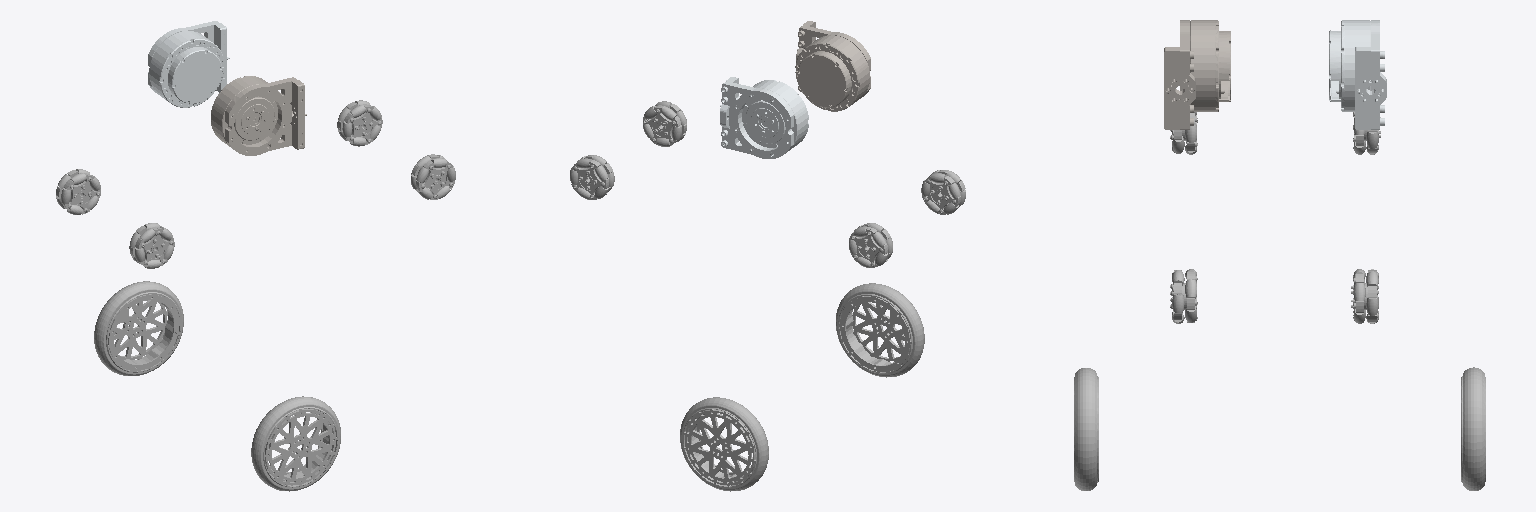
robot.urdf — practice3_description2:
<?xml version="1.0" encoding="utf-8"?>
<!-- This URDF was automatically created by SolidWorks to URDF Exporter! Originally created by [author] ([email redacted]) 
     Commit Version: 1.6.0-4-g7f85cfe  Build Version: 1.6.7995.38578
     For more information, please see http://wiki.ros.org/sw_urdf_exporter -->
<robot
  name="practice3_description2">
  <link
    name="base_link">
    <inertial>
      <origin
        xyz="-0.0190143926510643 -0.00209106834204678 0.0241216046560516"
        rpy="0 0 0" />
      <mass
        value="7.92513256532834" />
      <inertia
        ixx="0.0139055216111117"
        ixy="-0.000109653517718705"
        ixz="1.27828702079396E-05"
        iyy="0.0118816586586861"
        iyz="-7.29407228200342E-06"
        izz="0.0171631225933994" />
    </inertial>
    <visual>
      <origin
        xyz="0 0 0"
        rpy="0 0 0" />
      <geometry>
        <mesh
          filename="package://practice3_description2/meshes/base_link.STL" />
      </geometry>
      <material
        name="">
        <color
          rgba="0.298039215686275 0.298039215686275 0.298039215686275 0.2" />
      </material>
    </visual>
    <collision>
      <origin
        xyz="0 0 0"
        rpy="0 0 0" />
      <geometry>
        <mesh
          filename="package://practice3_description2/meshes/base_link.STL" />
      </geometry>
    </collision>
  </link>
  <link
    name="left_hip_link_1">
    <inertial>
      <origin
        xyz="0.0117376958449735 -0.00870423692569275 2.26941382359541E-05"
        rpy="0 0 0" />
      <mass
        value="0.400563744047032" />
      <inertia
        ixx="0.000296564794093282"
        ixy="-8.00993493392262E-08"
        ixz="-2.84645285411357E-07"
        iyy="0.000516698382063801"
        iyz="-2.2497477718339E-08"
        izz="0.000267243803257602" />
    </inertial>
    <visual>
      <origin
        xyz="0 0 0"
        rpy="0 0 0" />
      <geometry>
        <mesh
          filename="package://practice3_description2/meshes/left_hip_link_1.STL" />
      </geometry>
      <material
        name="">
        <color
          rgba="0.898039215686275 0.917647058823529 0.929411764705882 0.2" />
      </material>
    </visual>
    <collision>
      <origin
        xyz="0 0 0"
        rpy="0 0 0" />
      <geometry>
        <mesh
          filename="package://practice3_description2/meshes/left_hip_link_1.STL" />
      </geometry>
    </collision>
  </link>
  <joint
    name="left_hip_joint_1"
    type="revolute">
    <origin
      xyz="-0.0644999999999995 0.100000000000002 0.0610000000000005"
      rpy="0 0 0" />
    <parent
      link="base_link" />
    <child
      link="left_hip_link_1" />
    <axis
      xyz="-1 0 0" />
    <limit
      lower="0"
      upper="0"
      effort="0"
      velocity="0" />
  </joint>
  <link
    name="left_hip_link_2">
    <inertial>
      <origin
        xyz="-0.00234340312165071 -0.0164403871090596 -0.0315246767728361"
        rpy="0 0 0" />
      <mass
        value="0.958438524633264" />
      <inertia
        ixx="0.00177180470536122"
        ixy="4.54831101220919E-07"
        ixz="-3.38215173711839E-06"
        iyy="0.00216397459244547"
        iyz="-3.10678190785687E-06"
        izz="0.000453278850053542" />
    </inertial>
    <visual>
      <origin
        xyz="0 0 0"
        rpy="0 0 0" />
      <geometry>
        <mesh
          filename="package://practice3_description2/meshes/left_hip_link_2.STL" />
      </geometry>
      <material
        name="">
        <color
          rgba="0.898039215686275 0.917647058823529 0.929411764705882 0.2" />
      </material>
    </visual>
    <collision>
      <origin
        xyz="0 0 0"
        rpy="0 0 0" />
      <geometry>
        <mesh
          filename="package://practice3_description2/meshes/left_hip_link_2.STL" />
      </geometry>
    </collision>
  </link>
  <joint
    name="left_hip_joint_2"
    type="revolute">
    <origin
      xyz="0 0.074999989032747 0"
      rpy="0 0 0" />
    <parent
      link="left_hip_link_1" />
    <child
      link="left_hip_link_2" />
    <axis
      xyz="0 1 0" />
    <limit
      lower="0"
      upper="0"
      effort="0"
      velocity="0" />
  </joint>
  <link
    name="left_knee_link">
    <inertial>
      <origin
        xyz="0.00100749878759322 0.00320594335839763 -0.122955227606256"
        rpy="0 0 0" />
      <mass
        value="0.343804834340664" />
      <inertia
        ixx="0.0009680733895411"
        ixy="8.59857145931582E-07"
        ixz="1.62319934624875E-05"
        iyy="0.00106913143213422"
        iyz="-2.52727040731467E-06"
        izz="0.000118328955466622" />
    </inertial>
    <visual>
      <origin
        xyz="0 0 0"
        rpy="0 0 0" />
      <geometry>
        <mesh
          filename="package://practice3_description2/meshes/left_knee_link.STL" />
      </geometry>
      <material
        name="">
        <color
          rgba="1 1 1 1" />
      </material>
    </visual>
    <collision>
      <origin
        xyz="0 0 0"
        rpy="0 0 0" />
      <geometry>
        <mesh
          filename="package://practice3_description2/meshes/left_knee_link.STL" />
      </geometry>
    </collision>
  </link>
  <joint
    name="left_knee_joint"
    type="revolute">
    <origin
      xyz="0 0.0119999999999887 -0.199999999999995"
      rpy="0 0 0" />
    <parent
      link="left_hip_link_2" />
    <child
      link="left_knee_link" />
    <axis
      xyz="0 -1 0" />
    <limit
      lower="0"
      upper="0"
      effort="0"
      velocity="0" />
  </joint>
  <link
    name="left_wheel_link">
    <inertial>
      <origin
        xyz="-7.07767178198537E-16 -0.0117920169831469 -3.88578058618805E-16"
        rpy="0 0 0" />
      <mass
        value="0.209584411967204" />
      <inertia
        ixx="0.00029786947300678"
        ixy="-1.10268043536288E-19"
        ixz="1.2705210623214E-21"
        iyy="0.000587841562871859"
        iyz="5.68473106691506E-19"
        izz="0.00029786947300678" />
    </inertial>
    <visual>
      <origin
        xyz="0 0 0"
        rpy="0 0 0" />
      <geometry>
        <mesh
          filename="package://practice3_description2/meshes/left_wheel_link.STL" />
      </geometry>
      <material
        name="">
        <color
          rgba="0.752941176470588 0.752941176470588 0.752941176470588 0.2" />
      </material>
    </visual>
    <collision>
      <origin
        xyz="0 0 0"
        rpy="0 0 0" />
      <geometry>
        <mesh
          filename="package://practice3_description2/meshes/left_wheel_link.STL" />
      </geometry>
    </collision>
  </link>
  <joint
    name="left_wheel_joint"
    type="revolute">
    <origin
      xyz="0 0.0334999999966896 -0.220000000000008"
      rpy="0 0 0" />
    <parent
      link="left_knee_link" />
    <child
      link="left_wheel_link" />
    <axis
      xyz="0 -1 0" />
    <limit
      lower="0"
      upper="0"
      effort="0"
      velocity="0" />
  </joint>
  <link
    name="right_hip_link_1">
    <inertial>
      <origin
        xyz="0.0117071177721701 0.0164021412660143 5.60256661864197E-05"
        rpy="0 0 0" />
      <mass
        value="0.400831423281393" />
      <inertia
        ixx="0.000296630955176583"
        ixy="7.82527228974855E-08"
        ixz="-2.70117601965929E-07"
        iyy="0.000516698271342002"
        iyz="1.80396125202565E-08"
        izz="0.000267280909062391" />
    </inertial>
    <visual>
      <origin
        xyz="0 0 0"
        rpy="0 0 0" />
      <geometry>
        <mesh
          filename="package://practice3_description2/meshes/right_hip_link_1.STL" />
      </geometry>
      <material
        name="">
        <color
          rgba="0.776470588235294 0.756862745098039 0.737254901960784 0.2" />
      </material>
    </visual>
    <collision>
      <origin
        xyz="0 0 0"
        rpy="0 0 0" />
      <geometry>
        <mesh
          filename="package://practice3_description2/meshes/right_hip_link_1.STL" />
      </geometry>
    </collision>
  </link>
  <joint
    name="right_hip_joint_1"
    type="revolute">
    <origin
      xyz="-0.0644999999999994 -0.099999999999998 0.0609999999997787"
      rpy="0 0 0" />
    <parent
      link="base_link" />
    <child
      link="right_hip_link_1" />
    <axis
      xyz="-1 0 0" />
    <limit
      lower="0"
      upper="0"
      effort="0"
      velocity="0" />
  </joint>
  <link
    name="right_hip_link_2">
    <inertial>
      <origin
        xyz="-0.00236637227336274 0.0164649838667017 -0.031489988048203"
        rpy="0 0 0" />
      <mass
        value="0.959167374243142" />
      <inertia
        ixx="0.00177190021168065"
        ixy="-4.59288978411488E-07"
        ixz="-3.39668830993251E-06"
        iyy="0.00216397675694541"
        iyz="3.10493523112989E-06"
        izz="0.000453345300994539" />
    </inertial>
    <visual>
      <origin
        xyz="0 0 0"
        rpy="0 0 0" />
      <geometry>
        <mesh
          filename="package://practice3_description2/meshes/right_hip_link_2.STL" />
      </geometry>
      <material
        name="">
        <color
          rgba="1 1 1 0.2" />
      </material>
    </visual>
    <collision>
      <origin
        xyz="0 0 0"
        rpy="0 0 0" />
      <geometry>
        <mesh
          filename="package://practice3_description2/meshes/right_hip_link_2.STL" />
      </geometry>
    </collision>
  </link>
  <joint
    name="right_hip_joint_2"
    type="revolute">
    <origin
      xyz="0 -0.0654999866485592 0"
      rpy="0 0 0" />
    <parent
      link="right_hip_link_1" />
    <child
      link="right_hip_link_2" />
    <axis
      xyz="0 1 0" />
    <limit
      lower="0"
      upper="0"
      effort="0"
      velocity="0" />
  </joint>
  <link
    name="right_knee_link">
    <inertial>
      <origin
        xyz="0.000852844559914787 -0.0032059954658481 -0.12291534139924"
        rpy="0 0 0" />
      <mass
        value="0.343804857289423" />
      <inertia
        ixx="0.000968088228819755"
        ixy="-6.93212784777182E-07"
        ixz="1.62579052061883E-05"
        iyy="0.00106913174986676"
        iyz="2.48328323811241E-06"
        izz="0.000118314433915555" />
    </inertial>
    <visual>
      <origin
        xyz="0 0 0"
        rpy="0 0 0" />
      <geometry>
        <mesh
          filename="package://practice3_description2/meshes/right_knee_link.STL" />
      </geometry>
      <material
        name="">
        <color
          rgba="1 1 1 0.2" />
      </material>
    </visual>
    <collision>
      <origin
        xyz="0 0 0"
        rpy="0 0 0" />
      <geometry>
        <mesh
          filename="package://practice3_description2/meshes/right_knee_link.STL" />
      </geometry>
    </collision>
  </link>
  <joint
    name="right_knee_joint"
    type="revolute">
    <origin
      xyz="0 -0.0119999999999739 -0.199999999570626"
      rpy="0 0 0" />
    <parent
      link="right_hip_link_2" />
    <child
      link="right_knee_link" />
    <axis
      xyz="0 1 0" />
    <limit
      lower="0"
      upper="0"
      effort="0"
      velocity="0" />
  </joint>
  <link
    name="right_wheel_link">
    <inertial>
      <origin
        xyz="-4.54633272695126E-09 0.0117920169831469 -1.31611332943038E-10"
        rpy="0 0 0" />
      <mass
        value="0.209584411967204" />
      <inertia
        ixx="0.00029786947300678"
        ixy="-6.91658661627059E-20"
        ixz="-6.53875455186767E-20"
        iyy="0.000587841562871858"
        iyz="1.3562476710542E-19"
        izz="0.00029786947300678" />
    </inertial>
    <visual>
      <origin
        xyz="0 0 0"
        rpy="0 0 0" />
      <geometry>
        <mesh
          filename="package://practice3_description2/meshes/right_wheel_link.STL" />
      </geometry>
      <material
        name="">
        <color
          rgba="0.752941176470588 0.752941176470588 0.752941176470588 0.2" />
      </material>
    </visual>
    <collision>
      <origin
        xyz="0 0 0"
        rpy="0 0 0" />
      <geometry>
        <mesh
          filename="package://practice3_description2/meshes/right_wheel_link.STL" />
      </geometry>
    </collision>
  </link>
  <joint
    name="right_wheel_joint"
    type="revolute">
    <origin
      xyz="0 -0.0334999999967161 -0.22000000006147"
      rpy="0 0 0" />
    <parent
      link="right_knee_link" />
    <child
      link="right_wheel_link" />
    <axis
      xyz="0 1 0" />
    <limit
      lower="0"
      upper="0"
      effort="0"
      velocity="0" />
  </joint>
  <link
    name="lf_guidewheel_link">
    <inertial>
      <origin
        xyz="-3.81799036830444E-11 -0.0202720140453712 -1.38603642452217E-10"
        rpy="0 0 0" />
      <mass
        value="0.0909509467491148" />
      <inertia
        ixx="8.39441481509991E-06"
        ixy="3.29272753185131E-15"
        ixz="3.36933497356766E-16"
        iyy="1.503586387806E-05"
        iyz="1.03458342751675E-14"
        izz="8.39441493636591E-06" />
    </inertial>
    <visual>
      <origin
        xyz="0 0 0"
        rpy="0 0 0" />
      <geometry>
        <mesh
          filename="package://practice3_description2/meshes/lf_guidewheel_link.STL" />
      </geometry>
      <material
        name="">
        <color
          rgba="0.752941176470588 0.752941176470588 0.752941176470588 0.2" />
      </material>
    </visual>
    <collision>
      <origin
        xyz="0 0 0"
        rpy="0 0 0" />
      <geometry>
        <mesh
          filename="package://practice3_description2/meshes/lf_guidewheel_link.STL" />
      </geometry>
    </collision>
  </link>
  <joint
    name="lf_guidewheel_joint"
    type="revolute">
    <origin
      xyz="0.2 0.114999999999995 -0.082"
      rpy="0 0 0" />
    <parent
      link="base_link" />
    <child
      link="lf_guidewheel_link" />
    <axis
      xyz="0 -1 0" />
    <limit
      lower="0"
      upper="0"
      effort="0"
      velocity="0" />
  </joint>
  <link
    name="lb_guidewheel_link">
    <inertial>
      <origin
        xyz="2.10307049552938E-11 -0.0197279859545276 -1.41607475745431E-10"
        rpy="0 0 0" />
      <mass
        value="0.0909509467491148" />
      <inertia
        ixx="8.39441480498492E-06"
        ixy="1.92286536822321E-15"
        ixz="-1.12608791379439E-14"
        iyy="1.5035863881634E-05"
        iyz="-1.06855481416087E-14"
        izz="8.39441495005498E-06" />
    </inertial>
    <visual>
      <origin
        xyz="0 0 0"
        rpy="0 0 0" />
      <geometry>
        <mesh
          filename="package://practice3_description2/meshes/lb_guidewheel_link.STL" />
      </geometry>
      <material
        name="">
        <color
          rgba="0.752941176470588 0.752941176470588 0.752941176470588 0.2" />
      </material>
    </visual>
    <collision>
      <origin
        xyz="0 0 0"
        rpy="0 0 0" />
      <geometry>
        <mesh
          filename="package://practice3_description2/meshes/lb_guidewheel_link.STL" />
      </geometry>
    </collision>
  </link>
  <joint
    name="lb_guidewheel_joint"
    type="revolute">
    <origin
      xyz="-0.22 0.114999999999995 -0.0819999999999999"
      rpy="0 0 0" />
    <parent
      link="base_link" />
    <child
      link="lb_guidewheel_link" />
    <axis
      xyz="0 1 0" />
    <limit
      lower="0"
      upper="0"
      effort="0"
      velocity="0" />
  </joint>
  <link
    name="rf_guidewheel_link">
    <inertial>
      <origin
        xyz="7.05567826386755E-11 0.0197279859545511 -1.28303548341258E-10"
        rpy="0 0 0" />
      <mass
        value="0.0909509467491148" />
      <inertia
        ixx="8.39441487768189E-06"
        ixy="-4.81052717715718E-15"
        ixz="-4.78214950020925E-14"
        iyy="1.5035863881813E-05"
        iyz="9.73330311208418E-15"
        izz="8.39441487753702E-06" />
    </inertial>
    <visual>
      <origin
        xyz="0 0 0"
        rpy="0 0 0" />
      <geometry>
        <mesh
          filename="package://practice3_description2/meshes/rf_guidewheel_link.STL" />
      </geometry>
      <material
        name="">
        <color
          rgba="0.752941176470588 0.752941176470588 0.752941176470588 0.2" />
      </material>
    </visual>
    <collision>
      <origin
        xyz="0 0 0"
        rpy="0 0 0" />
      <geometry>
        <mesh
          filename="package://practice3_description2/meshes/rf_guidewheel_link.STL" />
      </geometry>
    </collision>
  </link>
  <joint
    name="rf_guidewheel_joint"
    type="revolute">
    <origin
      xyz="0.2 -0.115000000000005 -0.082"
      rpy="0 0 0" />
    <parent
      link="base_link" />
    <child
      link="rf_guidewheel_link" />
    <axis
      xyz="0 -1 0" />
    <limit
      lower="0"
      upper="0"
      effort="0"
      velocity="0" />
  </joint>
  <link
    name="rb_guidewheel_link">
    <inertial>
      <origin
        xyz="-1.52366175232288E-11 0.0197279859546952 -1.42425626847853E-10"
        rpy="0 0 0" />
      <mass
        value="0.0909509467491149" />
      <inertia
        ixx="8.39441479936845E-06"
        ixy="1.46952142150811E-15"
        ixz="5.60638121438373E-15"
        iyy="1.50358638818585E-05"
        iyz="1.07572699951191E-14"
        izz="8.3944149558959E-06" />
    </inertial>
    <visual>
      <origin
        xyz="0 0 0"
        rpy="0 0 0" />
      <geometry>
        <mesh
          filename="package://practice3_description2/meshes/rb_guidewheel_link.STL" />
      </geometry>
      <material
        name="">
        <color
          rgba="0.752941176470588 0.752941176470588 0.752941176470588 0.2" />
      </material>
    </visual>
    <collision>
      <origin
        xyz="0 0 0"
        rpy="0 0 0" />
      <geometry>
        <mesh
          filename="package://practice3_description2/meshes/rb_guidewheel_link.STL" />
      </geometry>
    </collision>
  </link>
  <joint
    name="rb_guidewheel_joint"
    type="revolute">
    <origin
      xyz="-0.22 -0.115000000000005 -0.0819999999999999"
      rpy="0 0 0" />
    <parent
      link="base_link" />
    <child
      link="rb_guidewheel_link" />
    <axis
      xyz="0 1 0" />
    <limit
      lower="0"
      upper="0"
      effort="0"
      velocity="0" />
  </joint>
  <link
    name="gimbal_yaw_link">
    <inertial>
      <origin
        xyz="-0.183745701154576 -0.102092895317033 0.191057885769951"
        rpy="0 0 0" />
      <mass
        value="4.91940842711329" />
      <inertia
        ixx="0.0199311349512775"
        ixy="-1.82646012146974E-06"
        ixz="5.595528620991E-05"
        iyy="0.0200008424517047"
        iyz="-1.03478999341404E-06"
        izz="0.0348968178628078" />
    </inertial>
    <visual>
      <origin
        xyz="0 0 0"
        rpy="0 0 0" />
      <geometry>
        <mesh
          filename="package://practice3_description2/meshes/gimbal_yaw_link.STL" />
      </geometry>
      <material
        name="">
        <color
          rgba="0.780392156862745 0.76078431372549 0.741176470588235 0.2" />
      </material>
    </visual>
    <collision>
      <origin
        xyz="0 0 0"
        rpy="0 0 0" />
      <geometry>
        <mesh
          filename="package://practice3_description2/meshes/gimbal_yaw_link.STL" />
      </geometry>
    </collision>
  </link>
  <joint
    name="gimbal_yaw_joint"
    type="revolute">
    <origin
      xyz="0 0 0.121"
      rpy="0 0 0" />
    <parent
      link="base_link" />
    <child
      link="gimbal_yaw_link" />
    <axis
      xyz="0 0 1" />
    <limit
      lower="0"
      upper="0"
      effort="0"
      velocity="0" />
  </joint>
  <link
    name="gimbal_pitch_link">
    <inertial>
      <origin
        xyz="0.00870870716537667 0.00450855742416807 0.0159571123550603"
        rpy="0 0 0" />
      <mass
        value="1.64667908741681" />
      <inertia
        ixx="0.00169119928471164"
        ixy="-3.82884849647108E-05"
        ixz="1.36365647778805E-05"
        iyy="0.0018168121206961"
        iyz="3.84275562550976E-06"
        izz="0.00325400022057297" />
    </inertial>
    <visual>
      <origin
        xyz="0 0 0"
        rpy="0 0 0" />
      <geometry>
        <mesh
          filename="package://practice3_description2/meshes/gimbal_pitch_link.STL" />
      </geometry>
      <material
        name="">
        <color
          rgba="0.898039215686275 0.917647058823529 0.929411764705882 0.2" />
      </material>
    </visual>
    <collision>
      <origin
        xyz="0 0 0"
        rpy="0 0 0" />
      <geometry>
        <mesh
          filename="package://practice3_description2/meshes/gimbal_pitch_link.STL" />
      </geometry>
    </collision>
  </link>
  <joint
    name="gimbal_pitch_joint"
    type="revolute">
    <origin
      xyz="-0.018501 0 0.12"
      rpy="0 0 0" />
    <parent
      link="gimbal_yaw_link" />
    <child
      link="gimbal_pitch_link" />
    <axis
      xyz="-0.012506 0.99992 0" />
    <limit
      lower="0"
      upper="0"
      effort="0"
      velocity="0" />
  </joint>
</robot>

--- What the picture shows (computed from the rendered views, not written in the file) ---
Views: 3 orthographic renders of the robot side by side, from view 1: azimuth 30°, elevation 25°; view 2: azimuth 150°, elevation 25°; view 3: azimuth 270°, elevation 25°.
Model practice3_description2 with 15 links and 14 joints (14 revolute), rooted at base_link, posed every joint at zero.
Visible links, largest first — view 1: right_hip_link_1, left_wheel_link, right_wheel_link, left_hip_link_1, lf_guidewheel_link, lb_guidewheel_link, rb_guidewheel_link, rf_guidewheel_link; view 2: left_wheel_link, right_wheel_link, left_hip_link_1, right_hip_link_1, rf_guidewheel_link, rb_guidewheel_link, lf_guidewheel_link, lb_guidewheel_link; view 3: right_hip_link_1, left_hip_link_1, left_wheel_link, right_wheel_link, lf_guidewheel_link, rf_guidewheel_link, rb_guidewheel_link, lb_guidewheel_link.
Boxes of the visible links, <box> form: right_hip_link_1: <box>211,76,306,155</box>; left_wheel_link: <box>94,281,183,375</box>; right_wheel_link: <box>251,396,340,491</box>; left_hip_link_1: <box>148,21,229,107</box>; lf_guidewheel_link: <box>337,100,382,146</box>; lb_guidewheel_link: <box>56,169,100,214</box>; rb_guidewheel_link: <box>129,223,174,268</box>; rf_guidewheel_link: <box>411,154,455,199</box>; left_wheel_link: <box>680,397,768,491</box>; right_wheel_link: <box>836,283,924,377</box>; left_hip_link_1: <box>720,77,808,158</box>; right_hip_link_1: <box>795,21,870,111</box>; rf_guidewheel_link: <box>643,101,686,146</box>; rb_guidewheel_link: <box>921,170,965,214</box>; lf_guidewheel_link: <box>570,155,614,199</box>; lb_guidewheel_link: <box>849,223,892,267</box>; right_hip_link_1: <box>1164,20,1230,129</box>; left_hip_link_1: <box>1329,20,1386,129</box>; left_wheel_link: <box>1461,367,1485,490</box>; right_wheel_link: <box>1074,368,1098,490</box>; lf_guidewheel_link: <box>1351,269,1378,323</box>; rf_guidewheel_link: <box>1170,269,1197,323</box>; rb_guidewheel_link: <box>1170,112,1197,154</box>; lb_guidewheel_link: <box>1353,112,1380,154</box>.
Size in the robot's own frame: 0.4779 by 0.4315 by 0.5331 metres.
8 mesh visuals loaded from 15 distinct referenced files (8 binary STL); not drawn: 7 (reference not matched to a file when rendering).